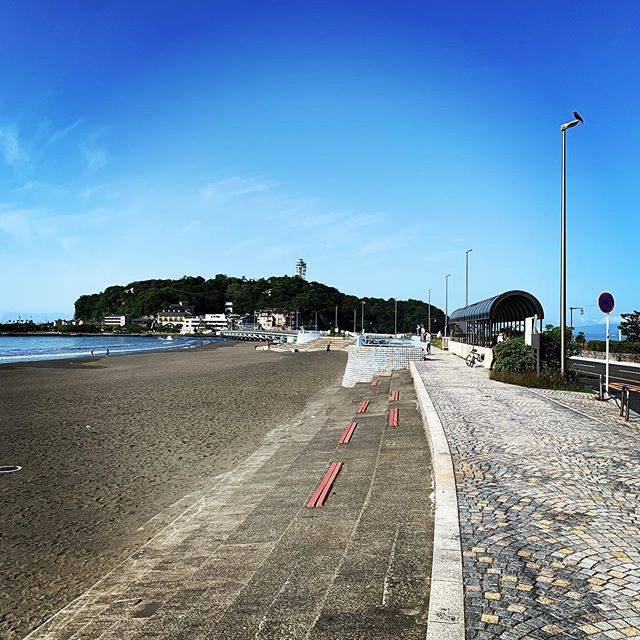building: (147, 305, 279, 332)
sky: (1, 1, 633, 287)
vegetation: (75, 274, 435, 337)
